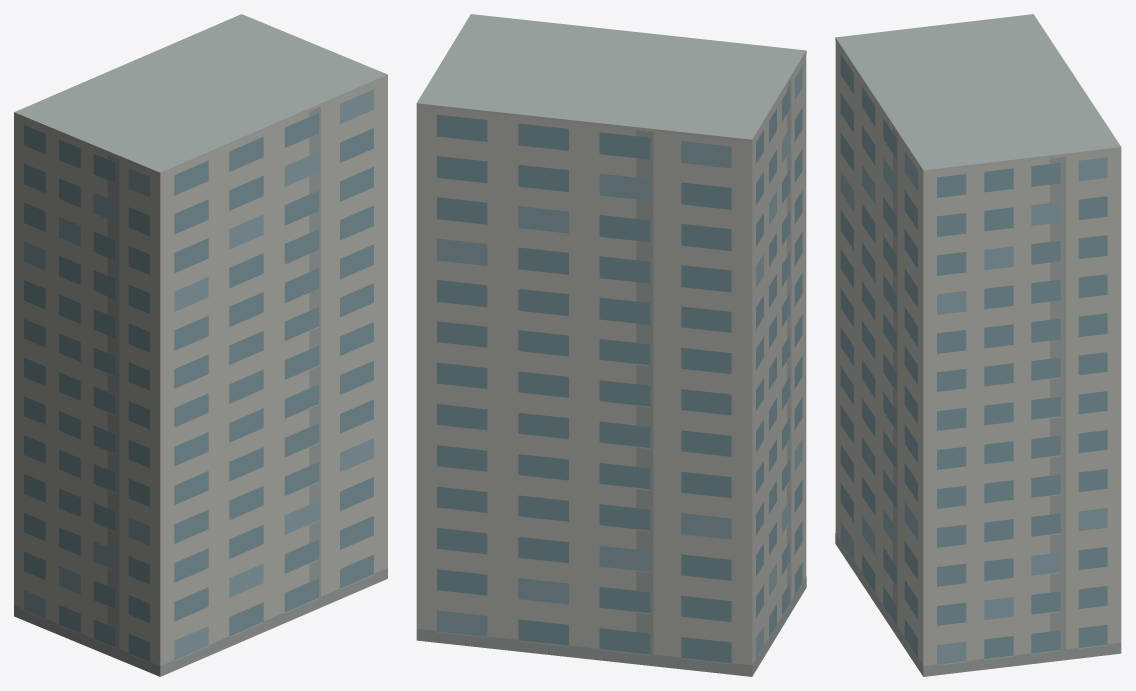
File: residential-3e1f74b3-5af4-4a41-9592-9faed634cf26.glb
The picture shows the model from 3 angles, left to right: view 1: azimuth 30°, elevation 25°; view 2: azimuth 150°, elevation 25°; view 3: azimuth 270°, elevation 25°; orthographic projection. The views are drawn at different scales.
Visible parts, largest first — view 1: residential-3e1f74b3-5af4-4a41-9592-9faed634cf26.tmp; view 2: residential-3e1f74b3-5af4-4a41-9592-9faed634cf26.tmp; view 3: residential-3e1f74b3-5af4-4a41-9592-9faed634cf26.tmp.
Boxes of the visible parts, left/top/right/bottom form: residential-3e1f74b3-5af4-4a41-9592-9faed634cf26.tmp: left=14, top=14, right=387, bottom=676; residential-3e1f74b3-5af4-4a41-9592-9faed634cf26.tmp: left=416, top=14, right=806, bottom=676; residential-3e1f74b3-5af4-4a41-9592-9faed634cf26.tmp: left=835, top=14, right=1121, bottom=676.
Size of the model in its own units: 26.49 by 40 by 20.47.
